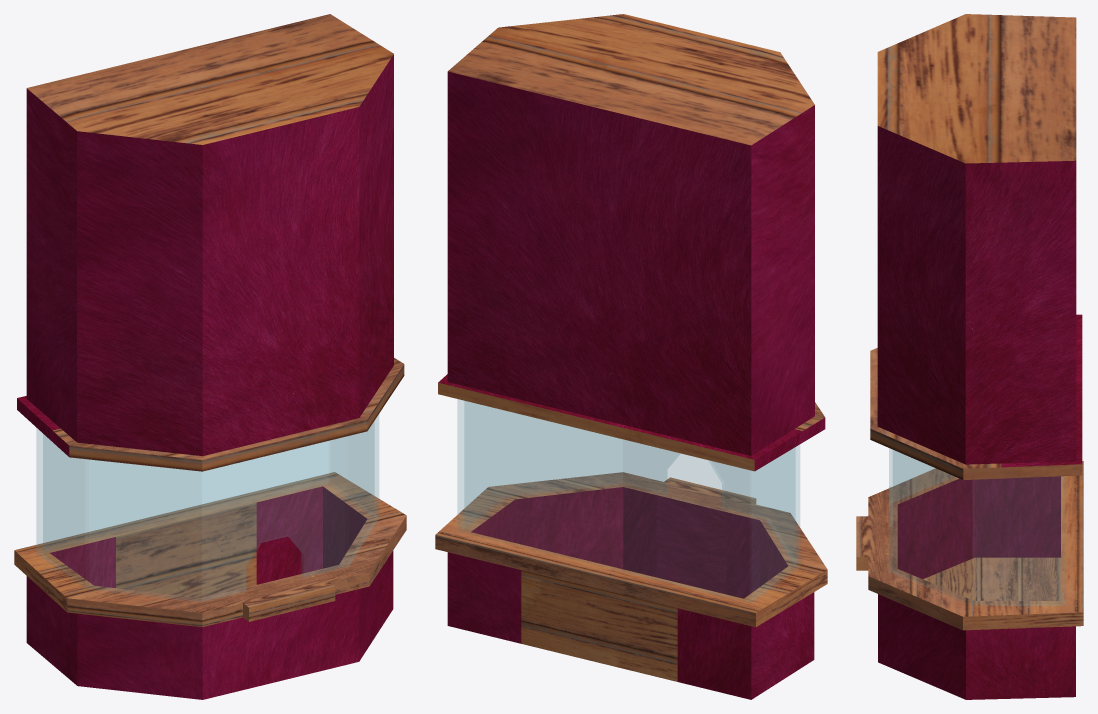
Rendered from Rezeption.fbx.
3 views of the same model, side by side, from view 1: azimuth 30°, elevation 25°; view 2: azimuth 150°, elevation 25°; view 3: azimuth 270°, elevation 25° (orthographic). The views are drawn at different scales.
Visible parts, largest first — view 1: Start, glass; view 2: Start, glass; view 3: Start, glass.
Boxes of the visible parts, x1,y1,x2,y2 form: Start: (14,14,406,699); glass: (36,415,378,600); Start: (435,14,827,699); glass: (457,399,799,601); Start: (856,14,1083,699); glass: (889,448,1065,605).
Size of the model in its own units: 4.06 by 2.44 by 6.36.
